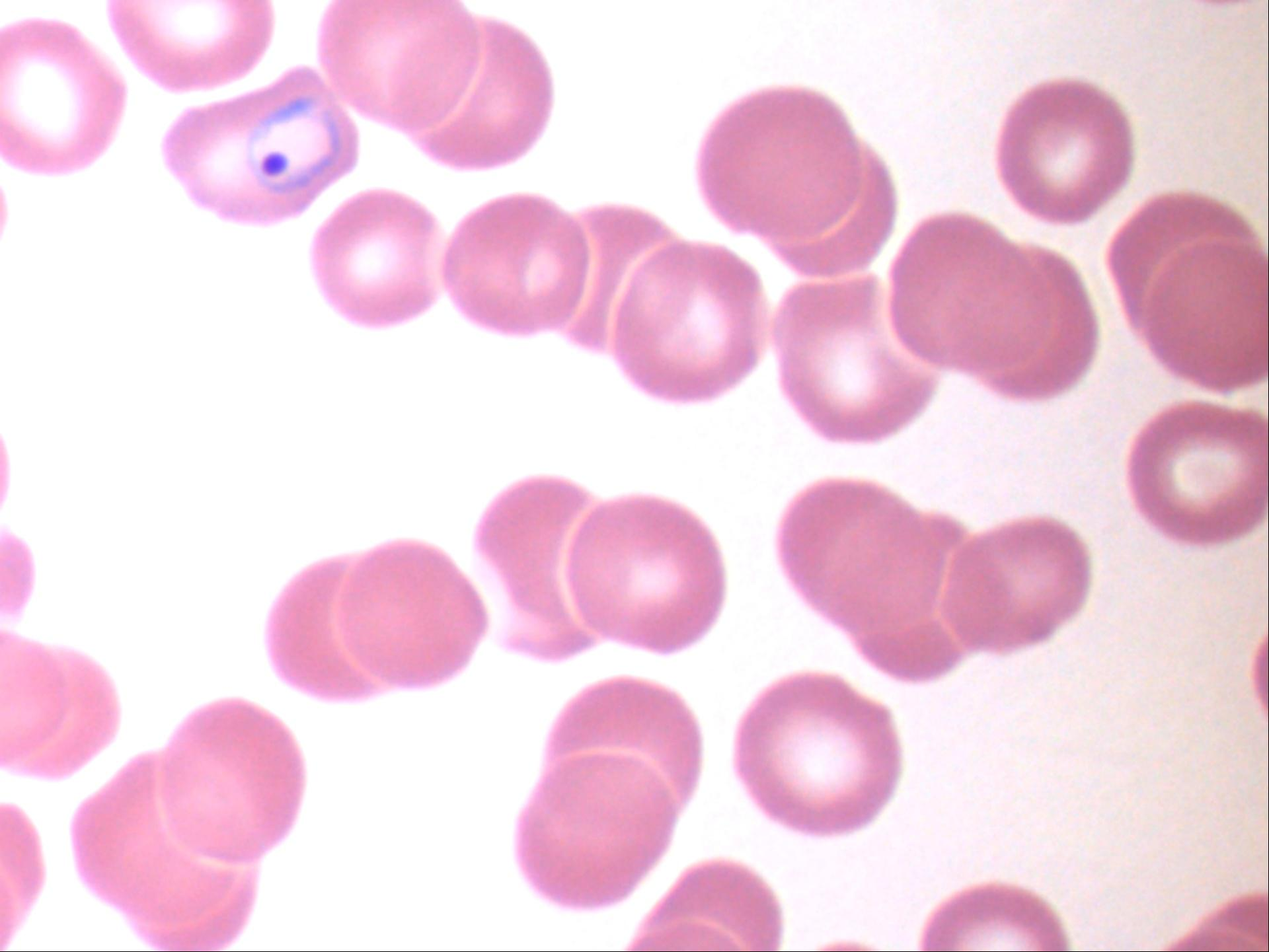Infected: (910, 716, 1112, 884)
Uninfected: (1005, 32, 1199, 200), (641, 280, 799, 473), (330, 509, 499, 689), (364, 117, 539, 287), (209, 571, 382, 732), (586, 43, 755, 201), (564, 122, 731, 281), (317, 320, 492, 470), (542, 300, 704, 460), (571, 589, 731, 749), (273, 267, 424, 436), (709, 783, 874, 934), (505, 545, 655, 711), (965, 82, 1112, 251), (776, 258, 928, 414), (784, 813, 950, 952), (414, 716, 567, 865), (176, 294, 332, 438), (19, 611, 161, 767), (0, 556, 132, 721), (855, 247, 999, 394), (167, 547, 303, 702), (674, 615, 821, 758), (0, 406, 141, 551), (137, 723, 270, 873), (1141, 778, 1269, 931), (377, 664, 513, 802), (824, 624, 958, 764)
